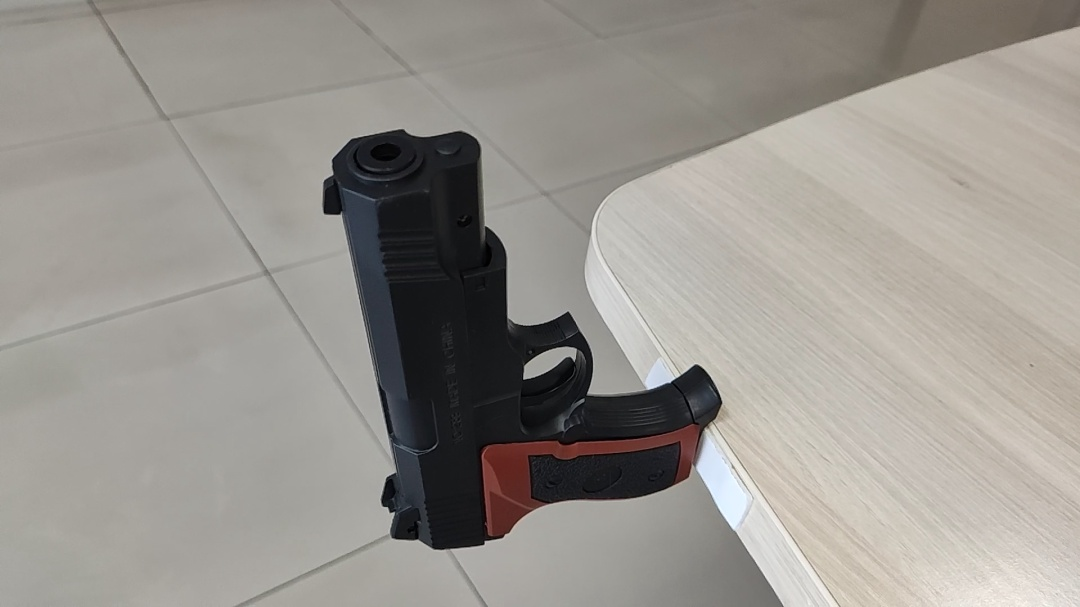gun: (324, 129, 723, 547)
